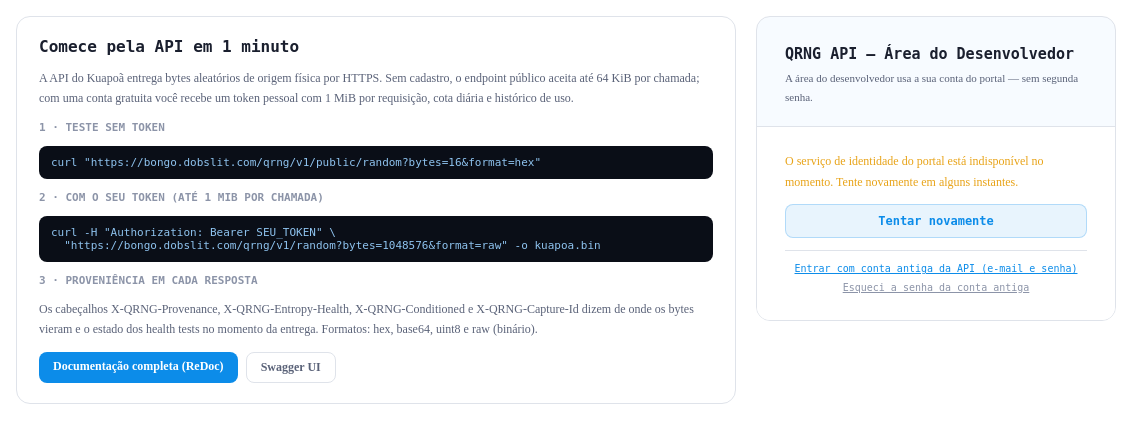
Test: DeveloperPage — modo portal (padrão) › 503 IDENTITY_UNAVAILABLE: mostra a mensagem de nova tentativa e 'Tentar novamente' recupera
Expected: the text "serviço de identidade do portal está indisponível" is shown, [785, 154, 1044, 189]
Click the button "Tentar novamente". click: [936, 221]
box: [785, 204, 1087, 238]
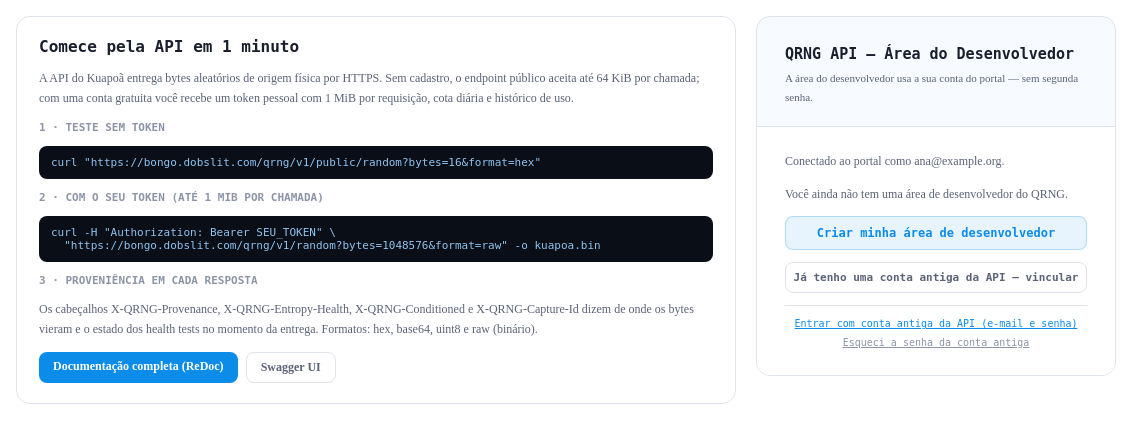
Now the button "Criar minha área de desenvolvedor" is shown, box [785, 216, 1087, 250]
